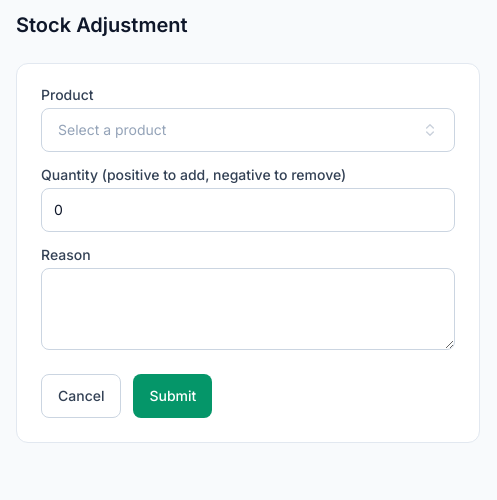
Test case: StockAdjustmentPage › shows validation errors when submitted empty
Click the button "Submit": (173, 396) top-left (134, 374), bottom-right (212, 418)
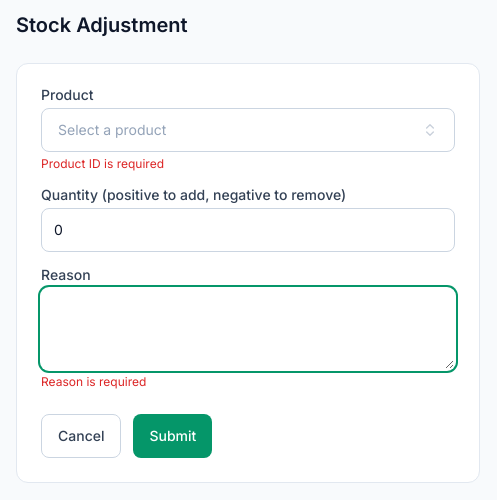
Check: the text "Product ID is required" is shown, box top-left (41, 156), bottom-right (164, 171)
